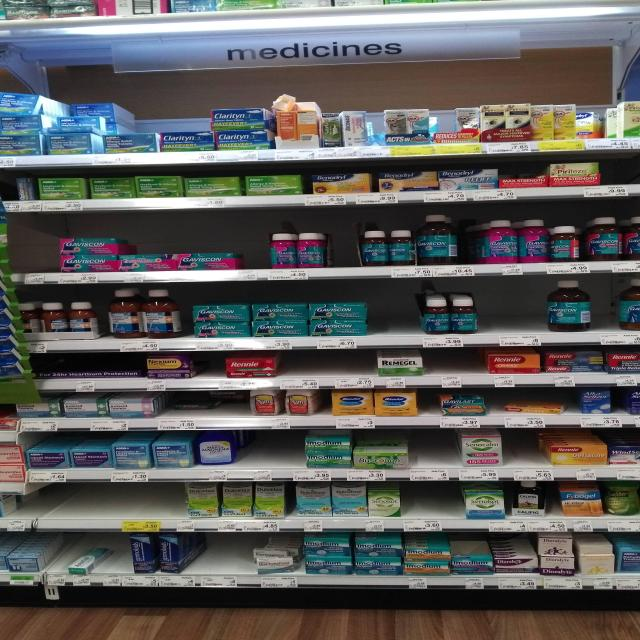empty: (44, 484, 183, 518), (477, 285, 548, 334), (11, 218, 57, 272), (371, 291, 420, 334), (162, 391, 248, 415), (245, 430, 302, 465), (406, 481, 463, 516), (209, 530, 251, 572), (412, 430, 459, 466), (329, 215, 359, 266), (239, 222, 270, 268), (504, 431, 544, 466), (593, 279, 620, 330), (112, 547, 132, 572), (53, 552, 69, 570)
